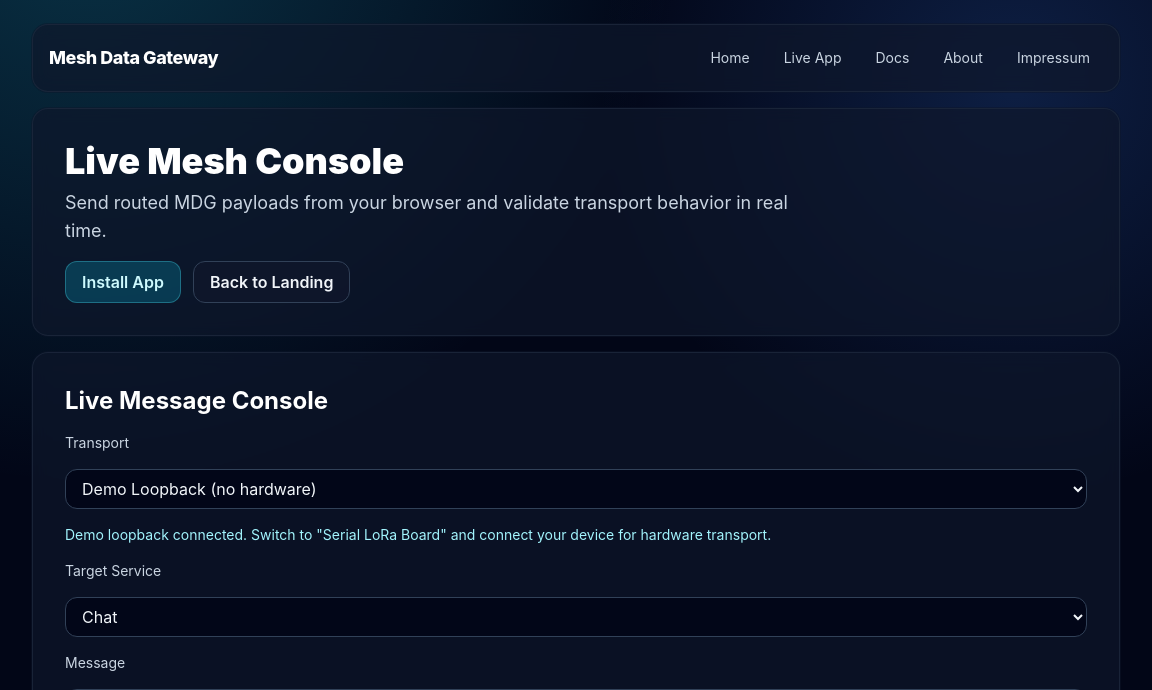
it: App › sends a message and renders received response
The image size is (1152, 690).
Check: the text "Demo loopback connected" is shown, box [65, 526, 771, 543]
Select "MCP" in the dropdown labelled "Target Service" at (576, 617), box [65, 597, 1087, 637]
(page scrolled)
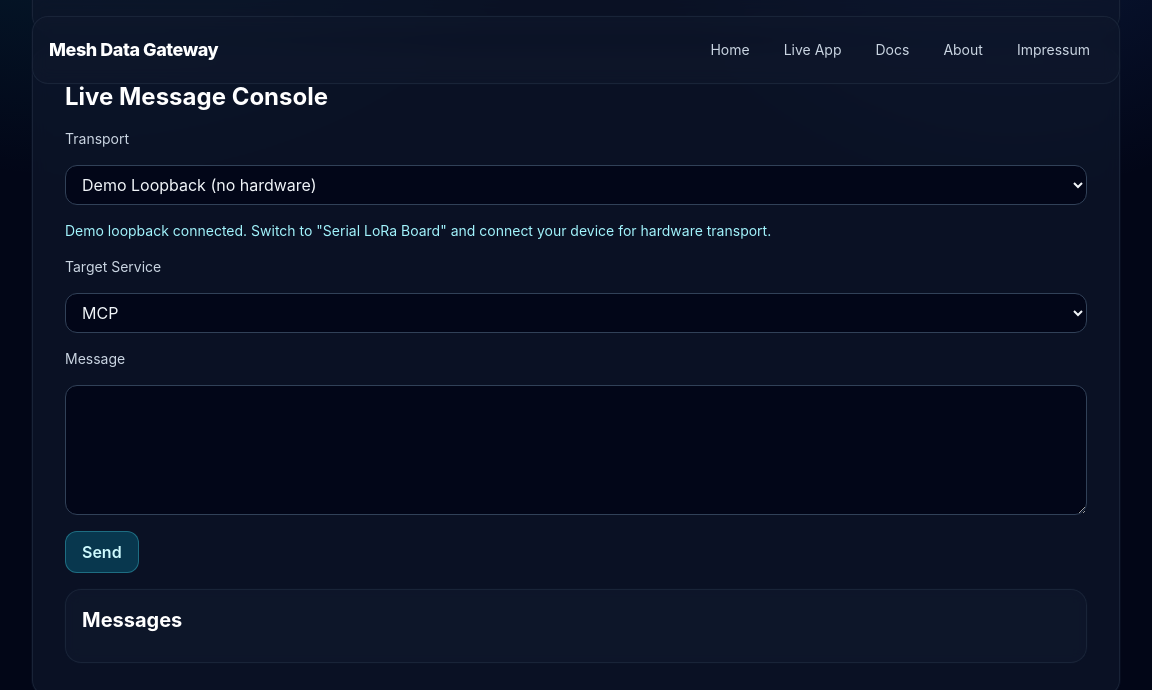
Type "hello mcp" into the text box labelled "Message" at (576, 450), box [65, 385, 1087, 515]
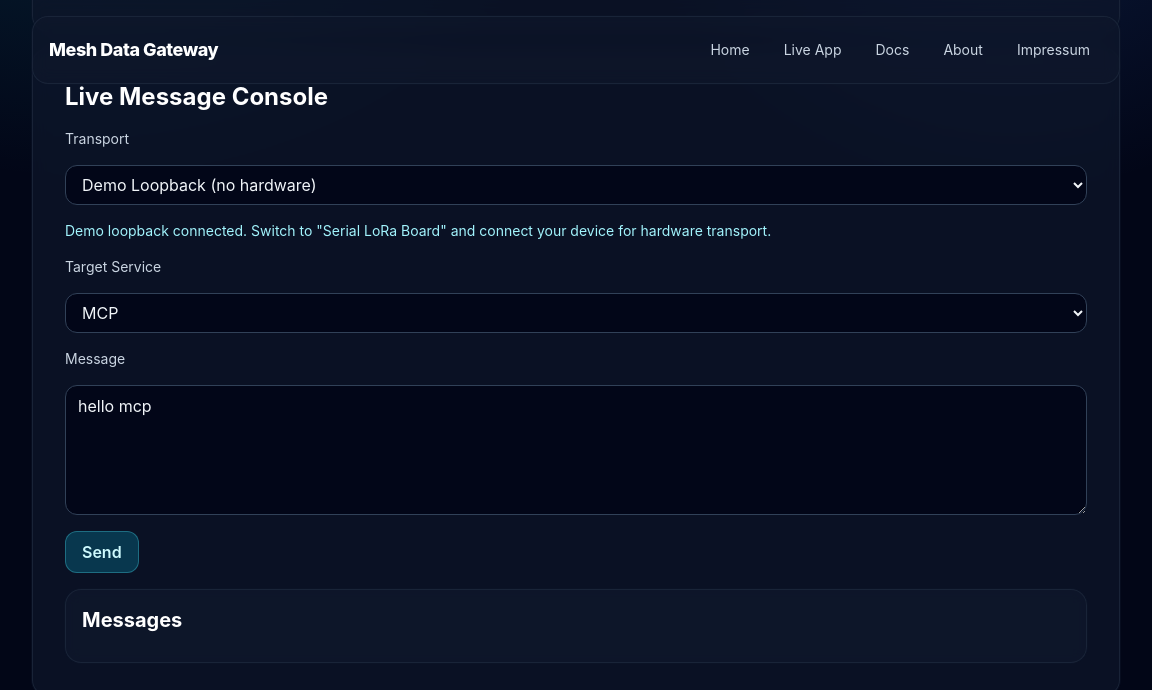
Click the button "Send" at (102, 552), box [65, 531, 139, 573]
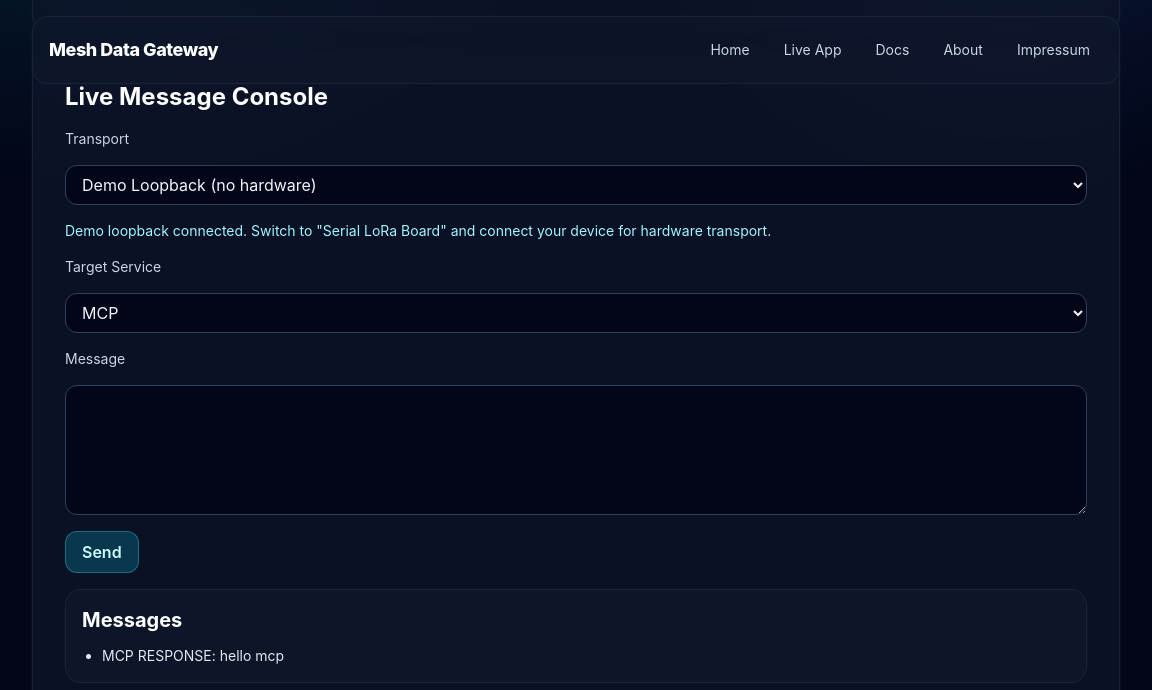
Check: the list item "MCP RESPONSE: hello mcp" is shown, box [102, 647, 284, 664]
